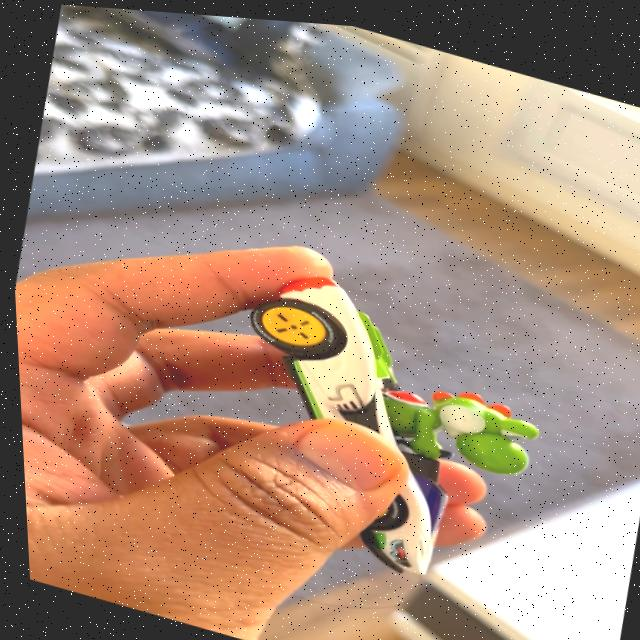yoshi: (179, 236, 583, 622)
